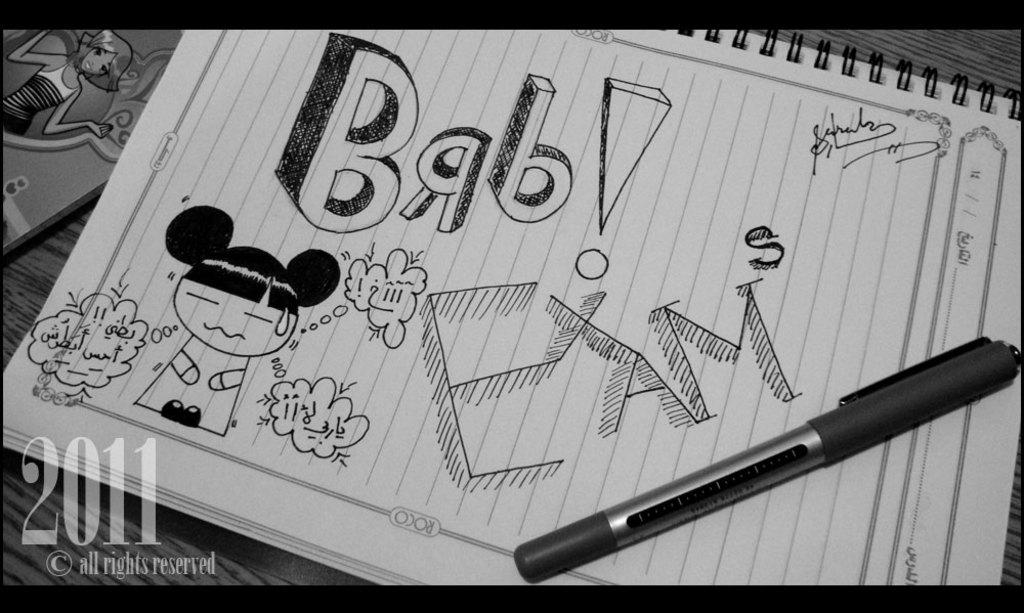pen: (504, 330, 1021, 582)
